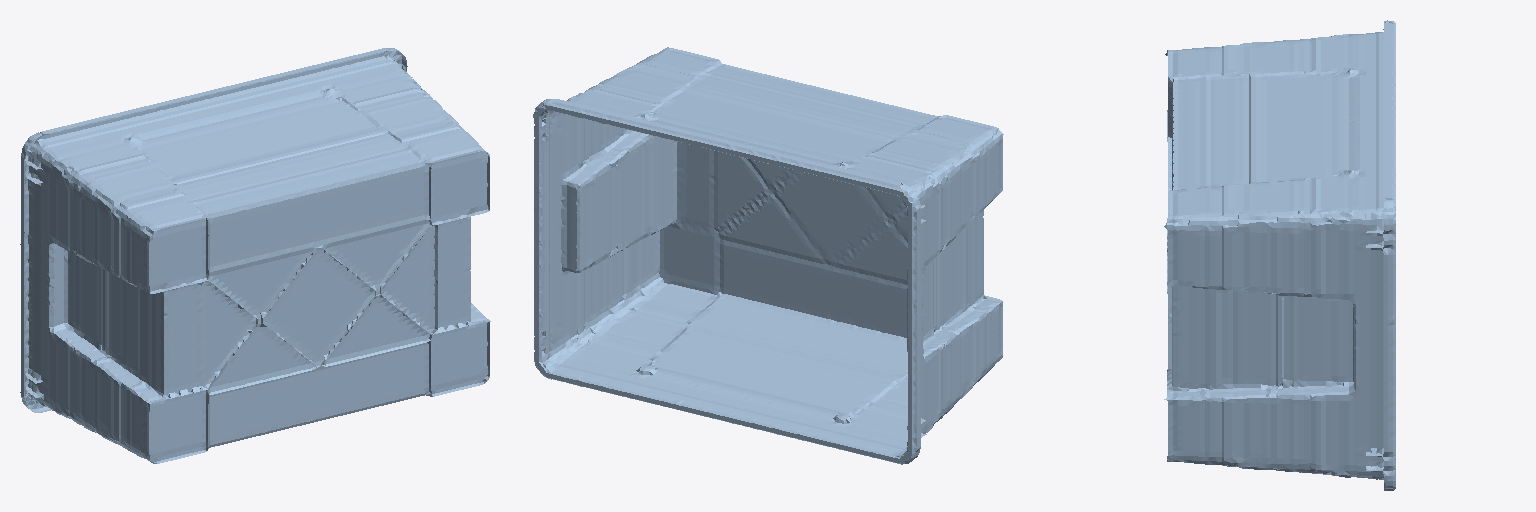
URDF robot description (plasticbox.urdf):
<?xml version="1.0" ?>
<robot name="plasticbox.urdf">
  <dynamics damping="0.5" friction="0.9"/>
  <link name="baseLink">
    <contact>
      <lateral_friction value="0.9"/>
      <rolling_friction value="0.5"/>
      <stiffness value="30000"/>
      <damping value="1000"/>
    </contact>
    <visual>
      <origin rpy="0 0 0" xyz="0 0 0"/>
      <geometry>
        <mesh filename="objects/plasticbox/plasticbox.obj" scale="1.0 1.0 1.0"/>
      </geometry>
       <material name="mat">
        <color rgba="0.7 0.8 0.9 1"/>
      </material>
    </visual>
    <collision>
      <origin rpy="0 0 0" xyz="0 0 0"/>
      <geometry>
	 	<mesh filename="objects/plasticbox/plasticbox.obj" scale="1.0 1.0 1.0"/>
      </geometry>
    </collision>
  </link>
</robot>

--- What the picture shows (computed from the rendered views, not written in the file) ---
Views: 3 orthographic renders of the robot side by side, from view 1: azimuth 30°, elevation 25°; view 2: azimuth 150°, elevation 25°; view 3: azimuth 270°, elevation 25°.
Model plasticbox.urdf with 1 links and 0 joints (none), rooted at baseLink, posed all joints at 0.
Visible links, largest first — view 1: baseLink; view 2: baseLink; view 3: baseLink.
Boxes of the visible links, x1,y1,x2,y2 form: baseLink: (20, 48, 490, 463); baseLink: (533, 47, 1003, 464); baseLink: (1164, 20, 1395, 490).
Size in the robot's own frame: 0.555 by 0.278 by 0.3852 metres.
1 mesh visuals loaded from 1 distinct referenced files (1 OBJ).